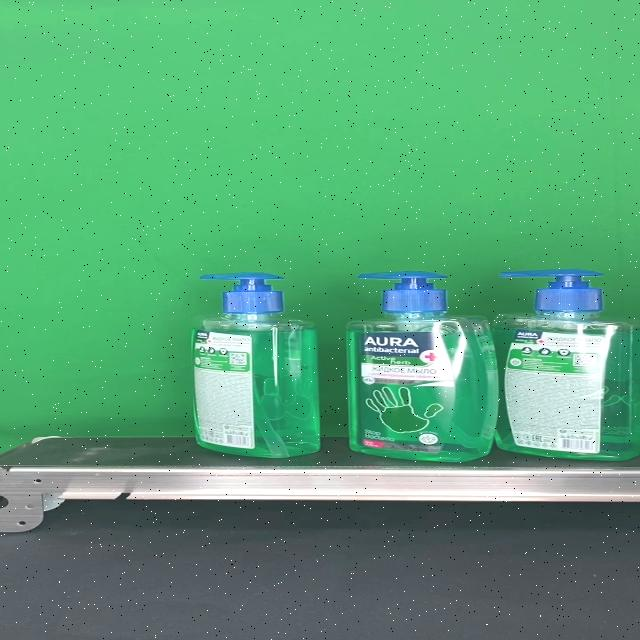Bottle: (346, 272, 498, 462), (492, 270, 640, 462), (190, 273, 320, 458)
Cap: (499, 270, 603, 312), (358, 272, 448, 313), (199, 273, 285, 314)
